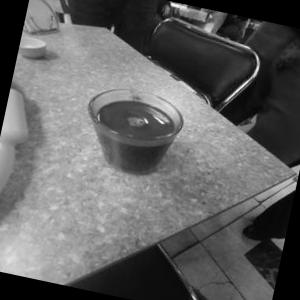coffee: (68, 60, 200, 196)
